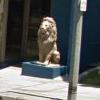Statue: (29, 13, 66, 84)
